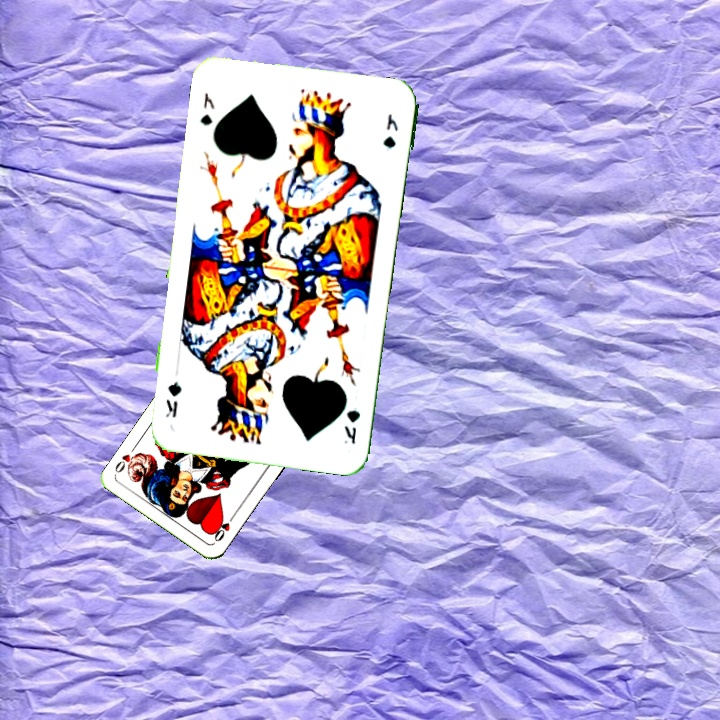GK: (340, 403, 363, 447), (196, 88, 217, 128)
HO: (210, 509, 238, 544)
